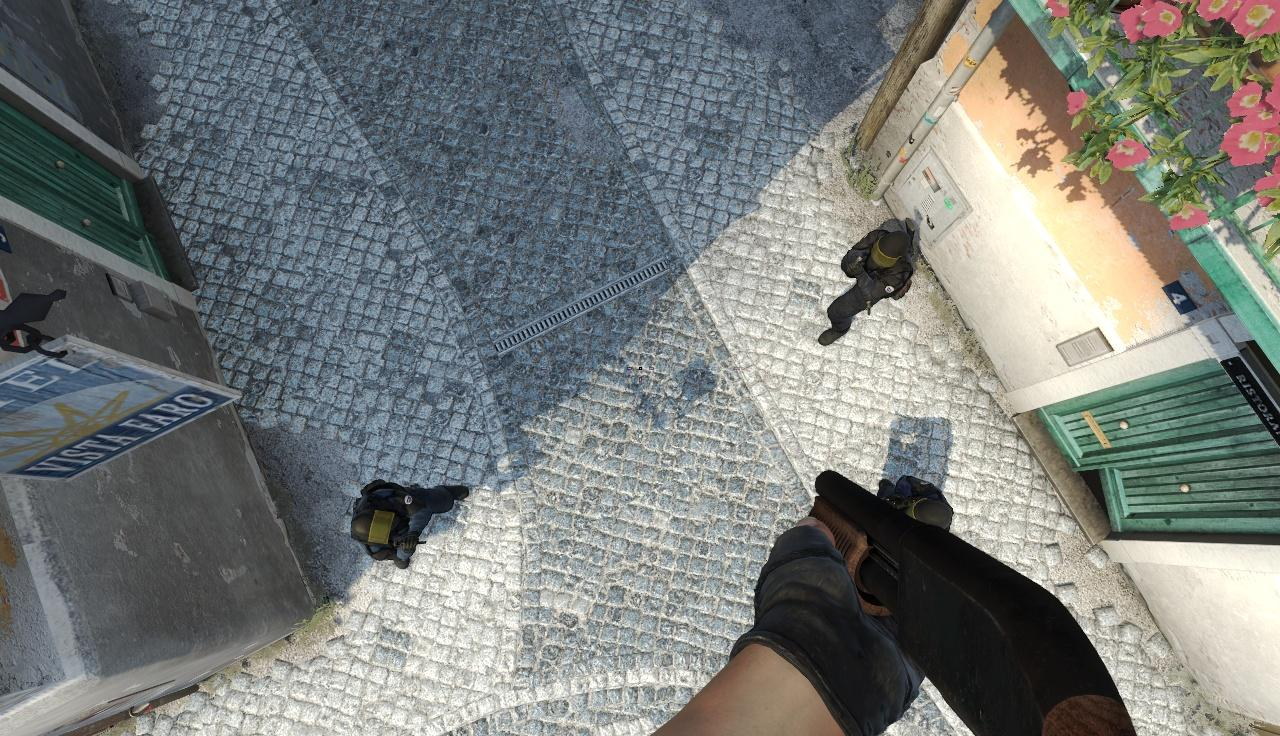ct: (351, 478, 450, 571), (837, 228, 916, 318), (878, 475, 953, 530)
cthead: (351, 510, 397, 544), (871, 230, 910, 268), (906, 497, 952, 529)
shotgun: (766, 467, 1139, 736)
